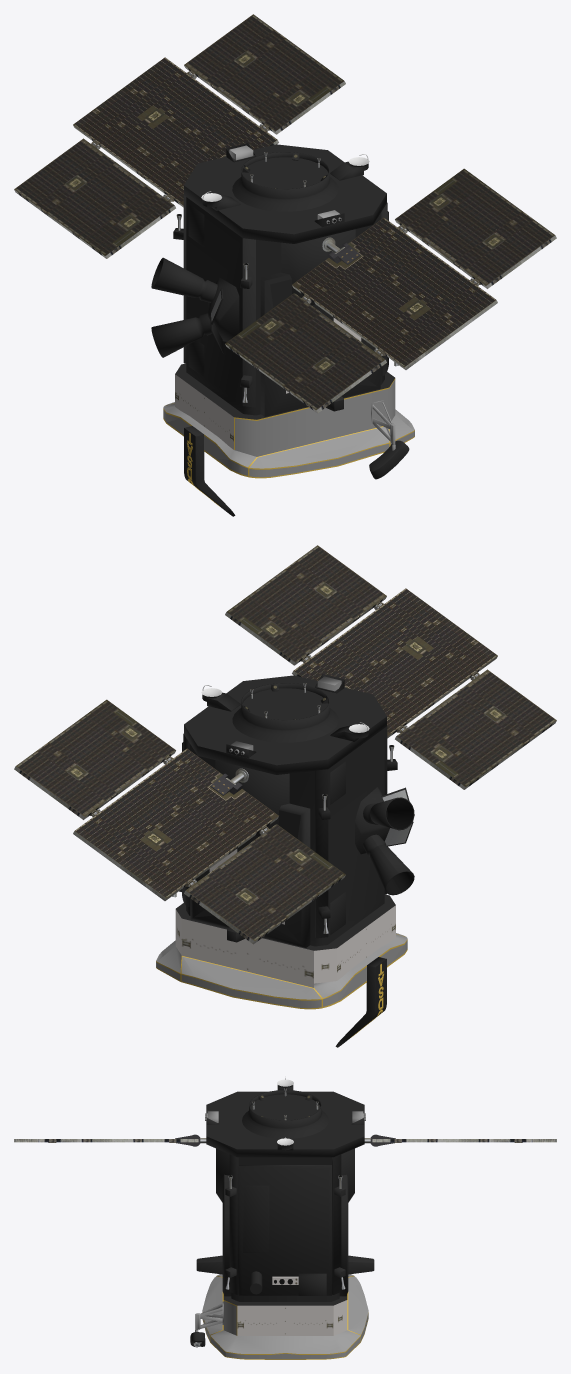
File: CloudSat.fbx
3 views of the same model, one above another, from view 1: azimuth 30°, elevation 25°; view 2: azimuth 150°, elevation 25°; view 3: azimuth 270°, elevation 25° (orthographic). The views are drawn at different scales.
Visible parts, largest first — view 1: CloudSat; view 2: CloudSat; view 3: CloudSat.
Boxes of the visible parts, x1,y1,x2,y2 form: CloudSat: [14, 14, 556, 516]; CloudSat: [14, 545, 556, 1047]; CloudSat: [14, 1076, 556, 1359].
Bounding box in the file's own units: 44.26 × 58.92 × 102.
Materials: 7 (4 with a texture image).
